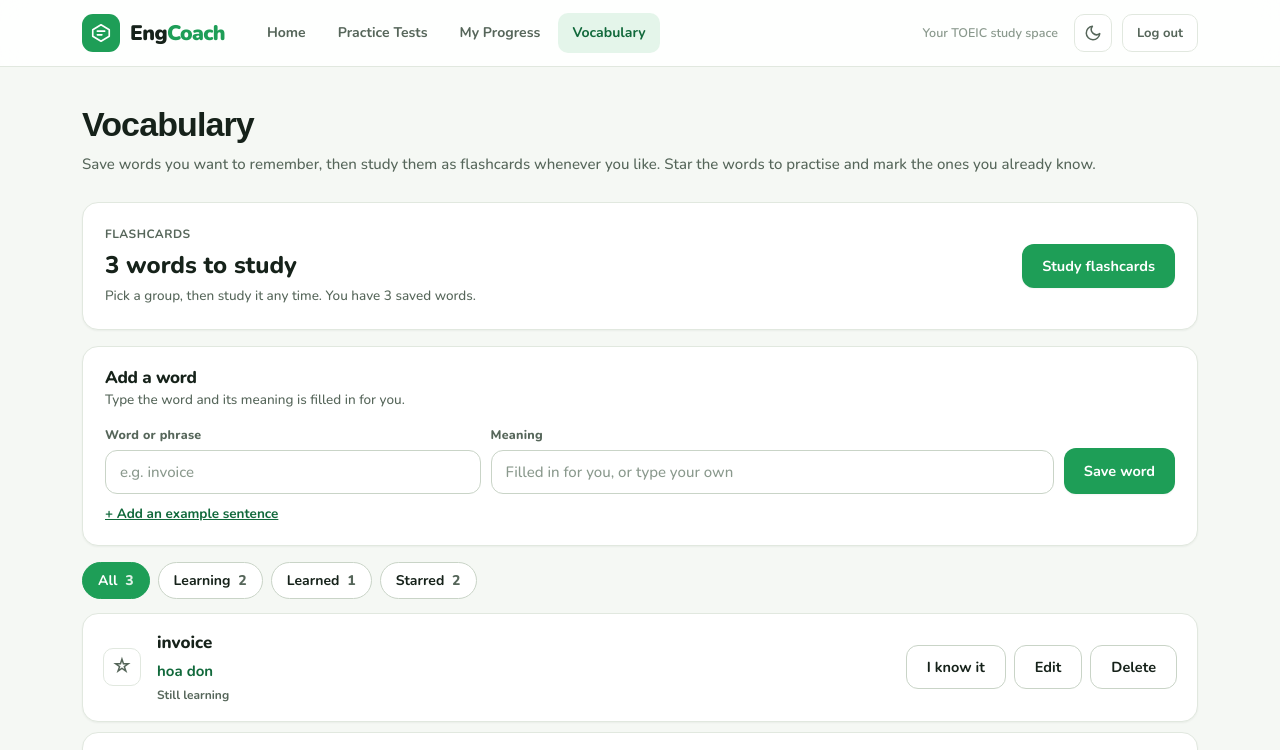
Test: Vocabulary page › groups, stars and learned words › stars a word and marks it as learned without leaving the page
The image size is (1280, 750).
What coordinates should you click on to do the following:
click the button named "Star invoice for flashcards"
I would click on:
 (122, 668)
Its box is x1=103 y1=648 x2=141 y2=686.
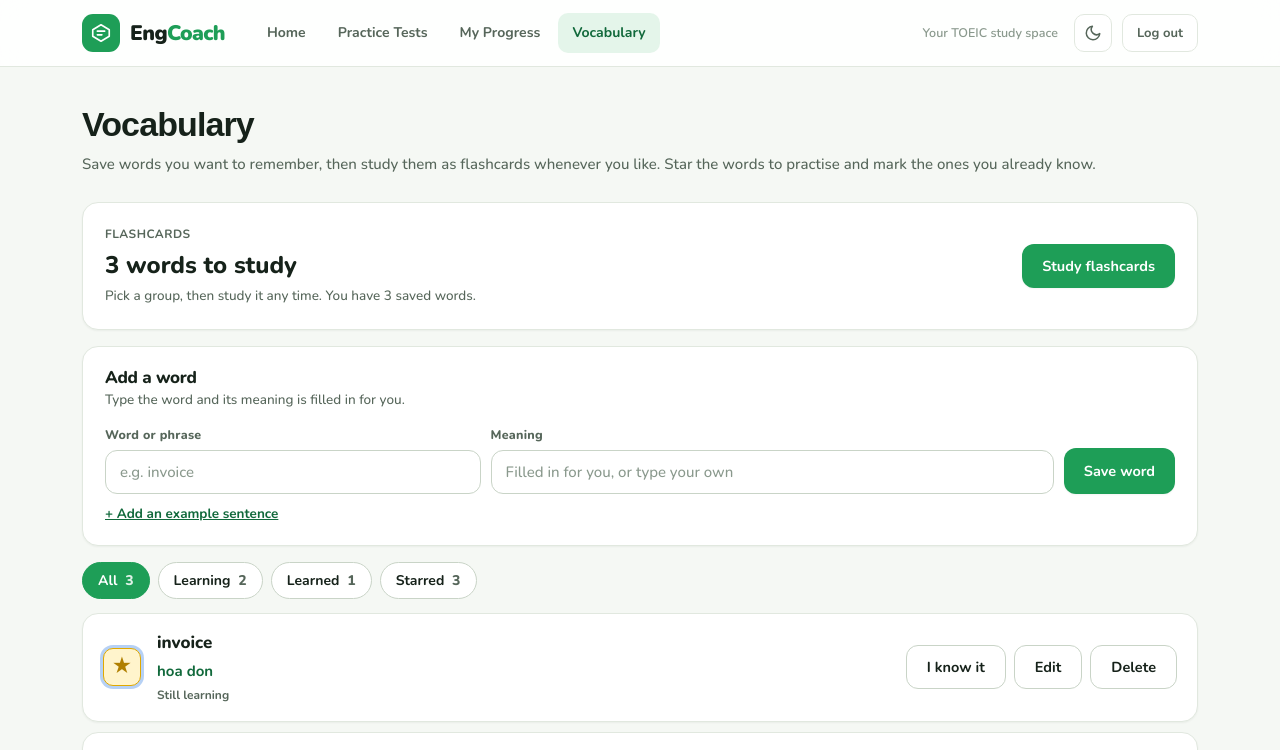
Check: the button named "Remove star from invoice" is pressed, box x1=103 y1=648 x2=141 y2=686
What coordinates should you click on to do the following:
click the button with aria-label "Mark invoice as learned"
I would click on:
 (956, 668)
Its box is x1=906 y1=646 x2=1006 y2=690.
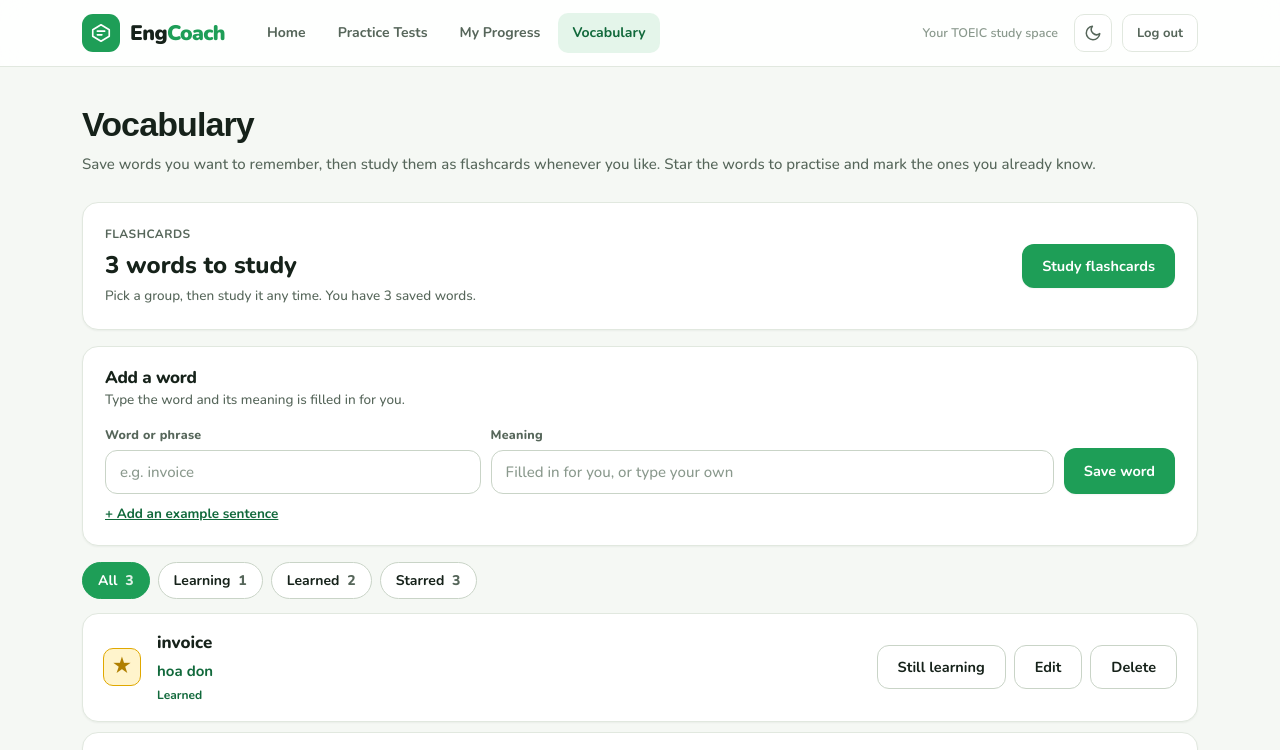
Check: the button with aria-label "Mark invoice as still learning" is shown, box x1=877 y1=646 x2=1006 y2=690
